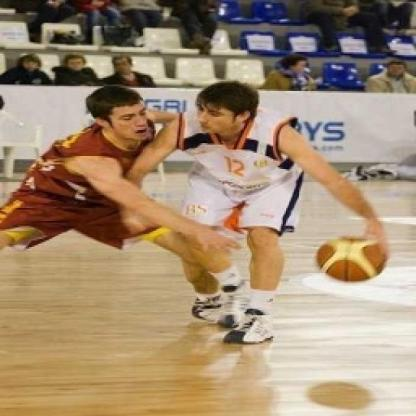basketball: (314, 232, 391, 288)
